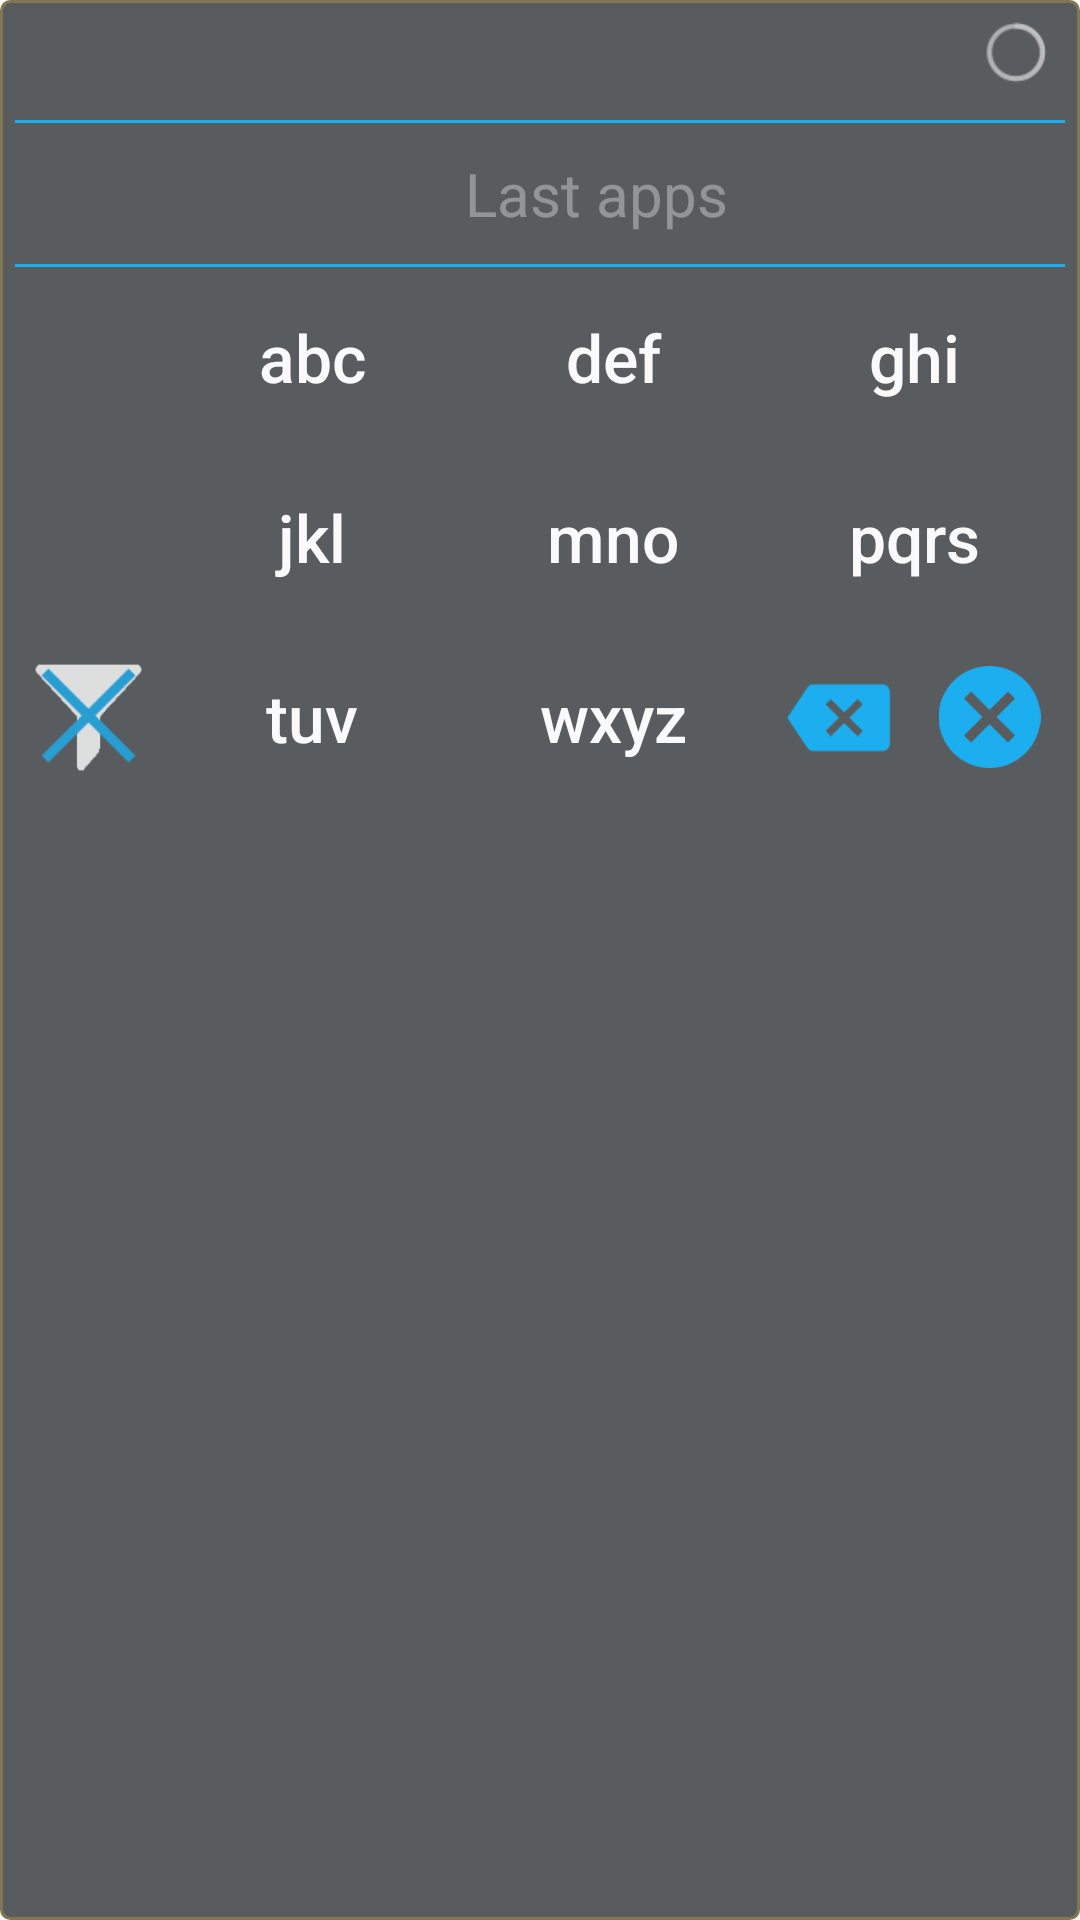

Icon click points for this 1080w x 1920h phone screenshot, format (x,y):
backspace arrow: (838,718)
cancel: (990,717)
filter all theme: (88,717)
